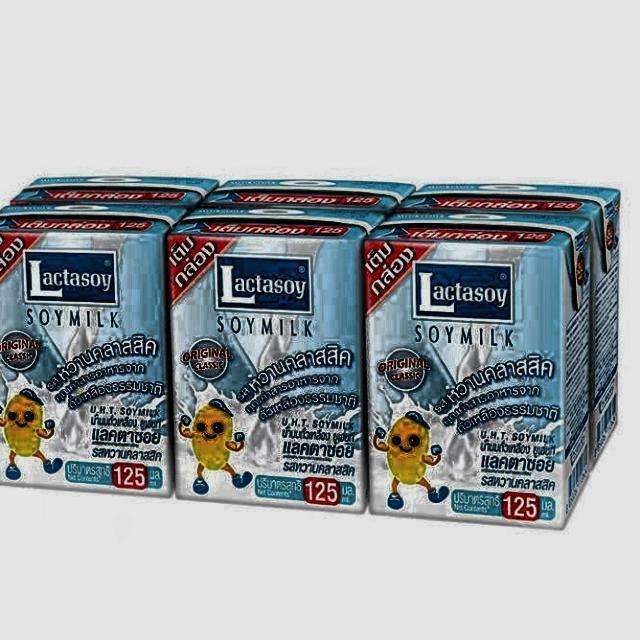cardboard: (362, 182, 620, 530), (165, 178, 413, 514), (0, 175, 216, 498)
